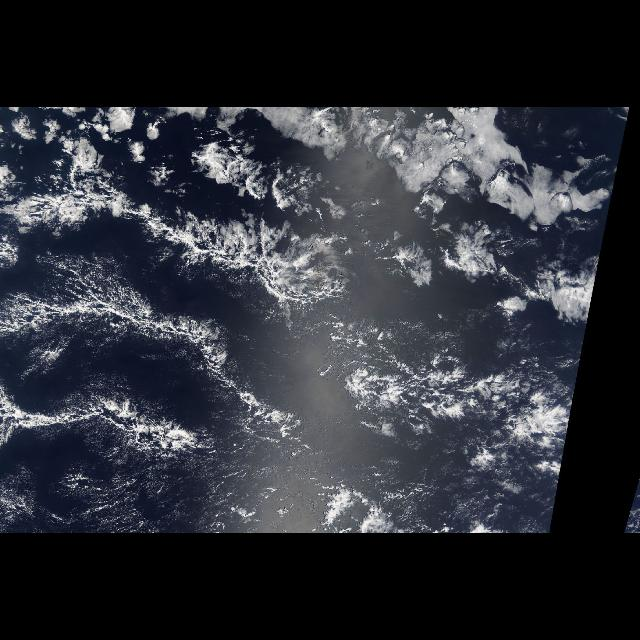Fish: (0, 163, 574, 491)
Flower: (371, 176, 604, 330)
Sugar: (2, 179, 348, 523)
